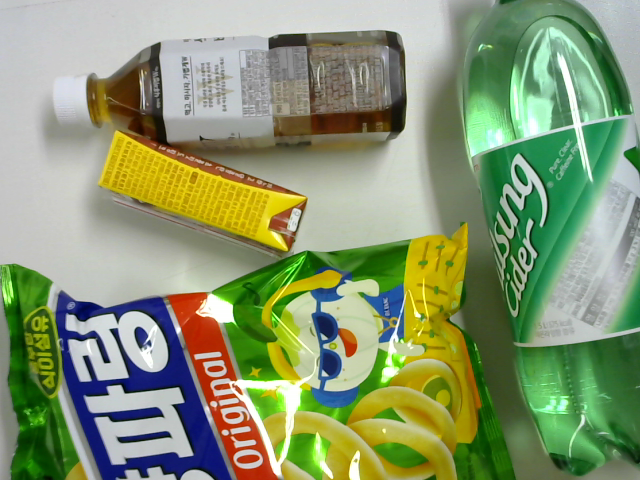Chilseong_Cider_1.5L: (455, 2, 640, 475)
Hush_Choco_Drink: (95, 130, 305, 254)
Oninon_Ring: (3, 232, 520, 480)
Post-meal_recipe_W_tea_500ml: (47, 28, 407, 154)
